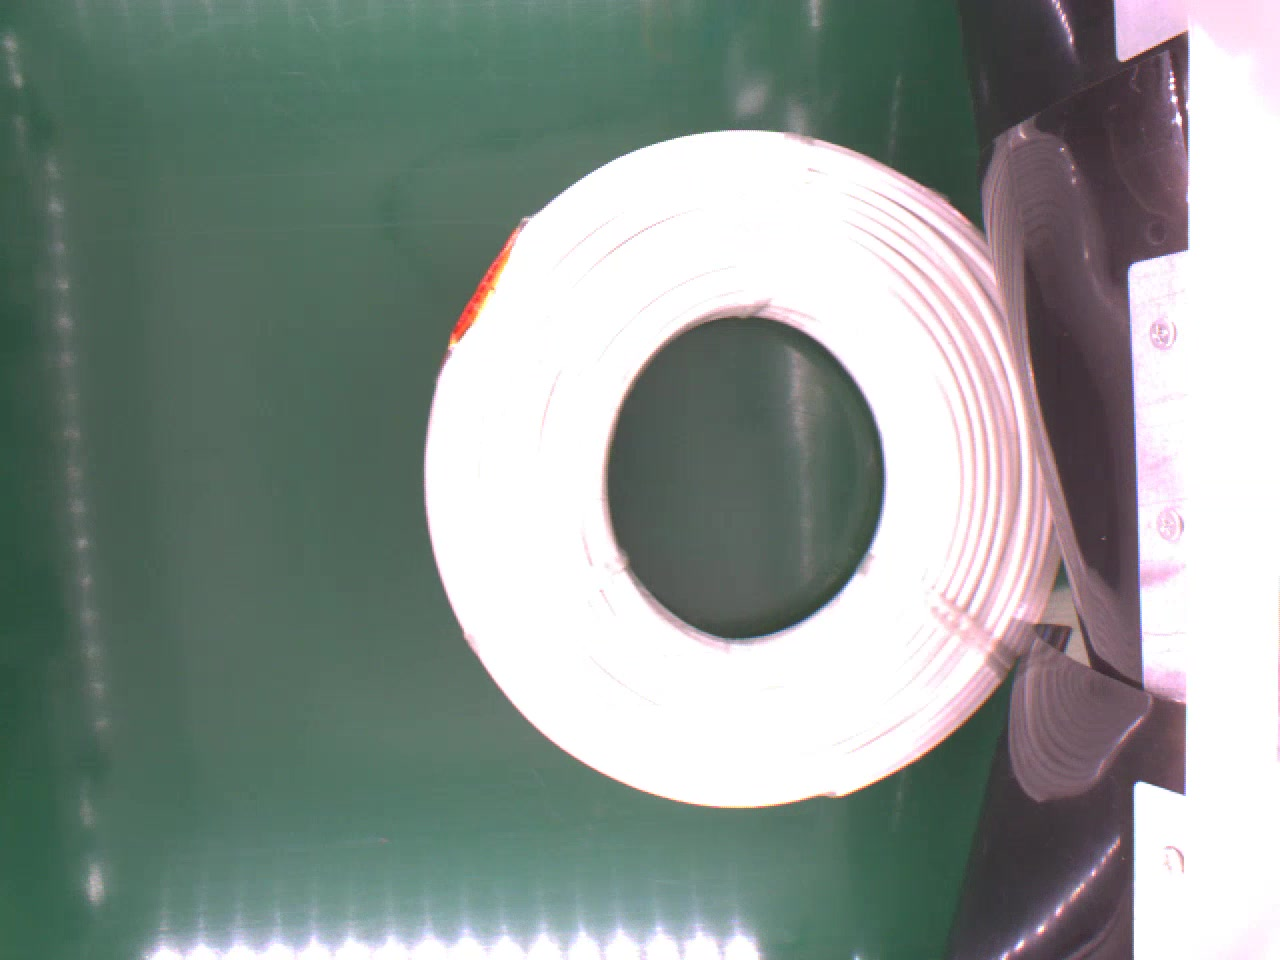white: (422, 124, 1061, 813)
